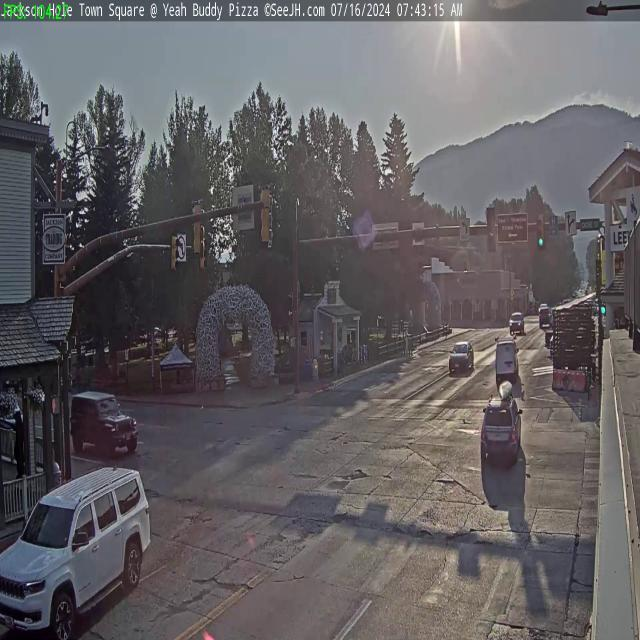sedan: (448, 339, 474, 374)
suv: (0, 463, 152, 640), (68, 385, 140, 465), (478, 393, 523, 466), (508, 312, 525, 334)
traffic light: (260, 184, 272, 244), (191, 200, 203, 256), (486, 206, 496, 253), (170, 235, 179, 272), (537, 214, 545, 248)
van: (496, 339, 520, 387)
